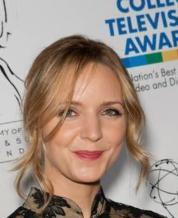face: (59, 100, 123, 162)
